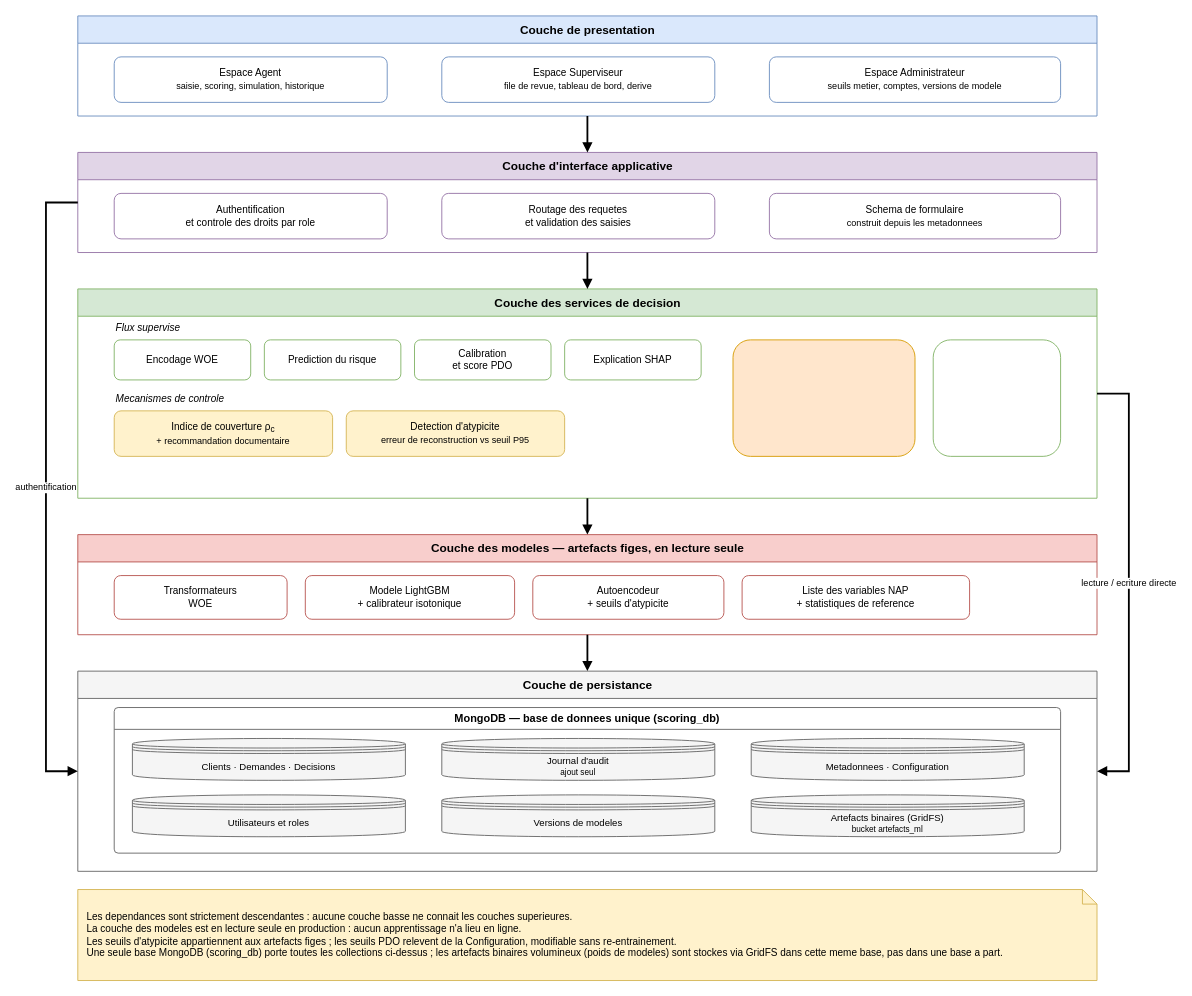
Image size: 1192x996. Some labels were removed from this diagram. The shapes that lost their labels are listed below. From the top down, each one's centre as x and y in pixels, then its label:
point (823, 397): Fusion des decisions escalade conservative : D i → D f
point (996, 397): Surveillance de la derive (PSI)
